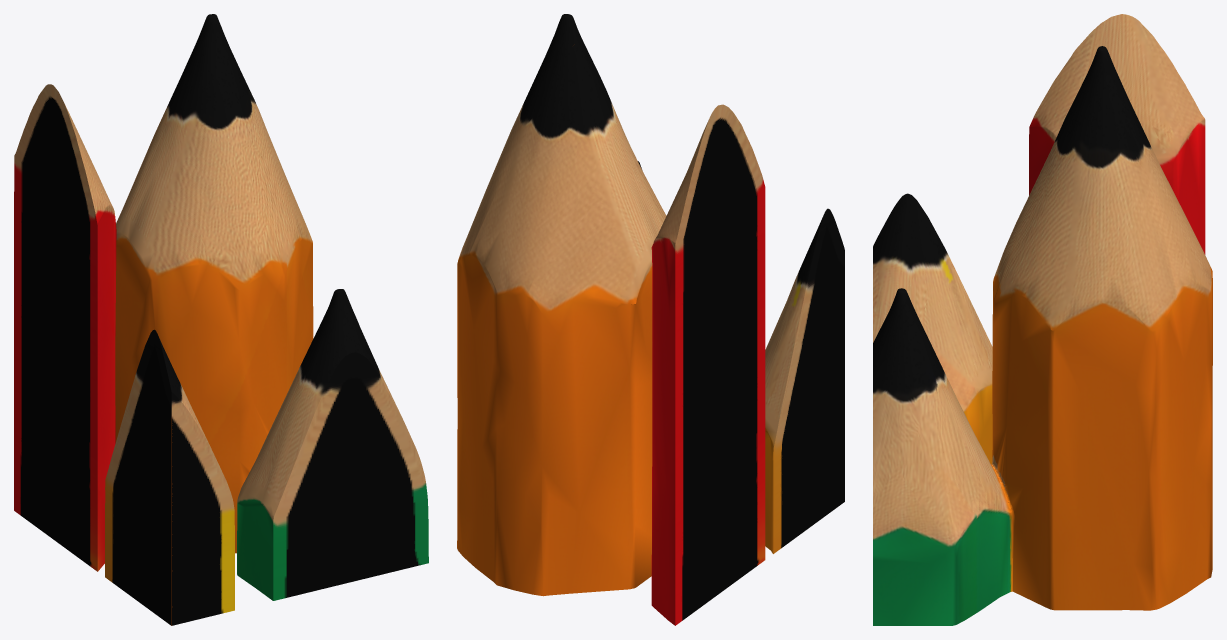
The model's file is 16-topper-back-right.fbx.
The picture shows the model from 3 angles, left to right: view 1: azimuth 30°, elevation 25°; view 2: azimuth 150°, elevation 25°; view 3: azimuth 270°, elevation 25°; orthographic projection. The views are drawn at different scales.
Visible parts, largest first — view 1: topper-back-right; view 2: topper-back-right; view 3: topper-back-right.
Part boxes in pixels (x1,y1,x2,y2): topper-back-right: [14, 14, 428, 625]; topper-back-right: [457, 14, 844, 625]; topper-back-right: [873, 14, 1212, 625].
Size of the model in its own units: 3168 by 5819 by 3431.
1 material, 1 textured.
